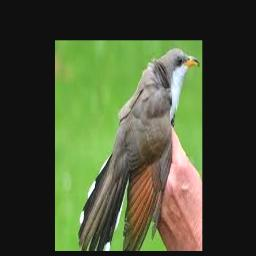Cuckoo: (78, 47, 199, 251)
